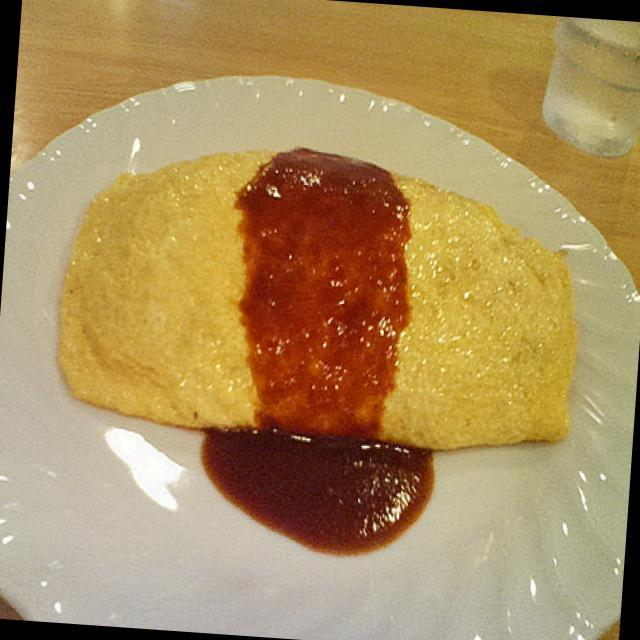Omelet: (44, 122, 594, 468)
